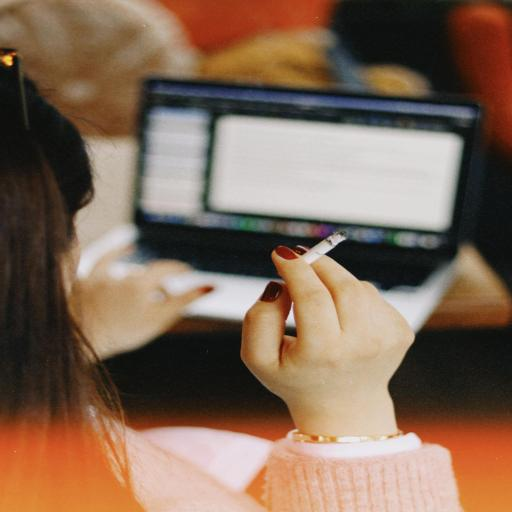terdeteksi pegang rokok: (226, 213, 424, 415)
